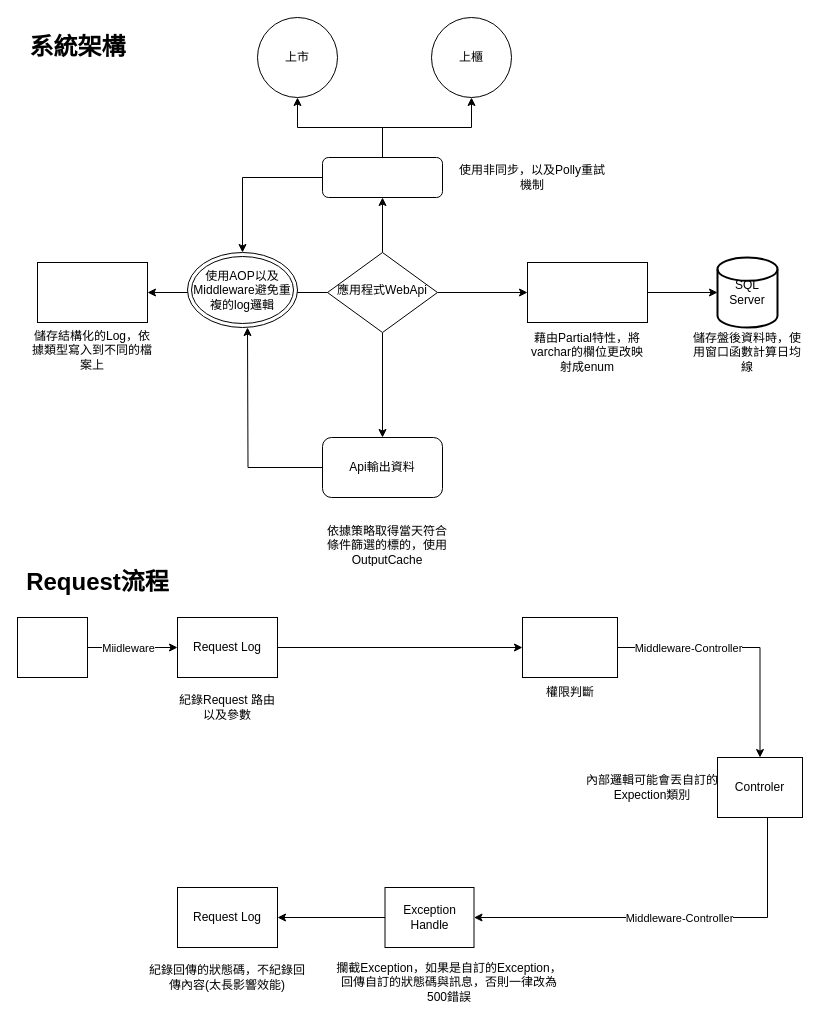
This 828x1025 diagram has some shape labels left out. Each missing label, with the box of its shape:
DbFirst_ORM: (526, 262, 648, 322)
Jwt: (522, 616, 618, 678)
SeriLog: (36, 262, 148, 322)
從公開的各個來源取得股市的盤後資料: (322, 156, 442, 198)
請求: (16, 616, 88, 678)
